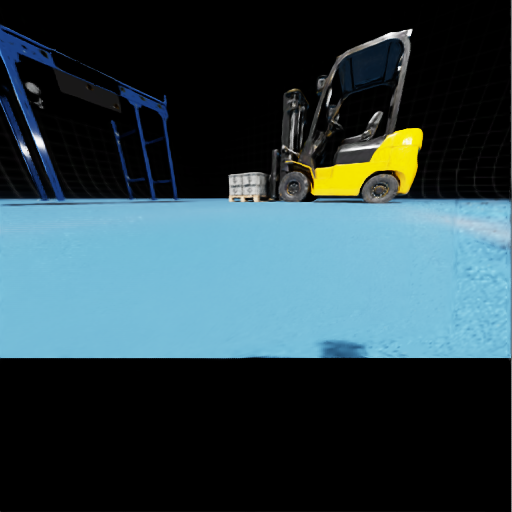transportation_area: (243, 184, 269, 194), (23, 46, 25, 48)
